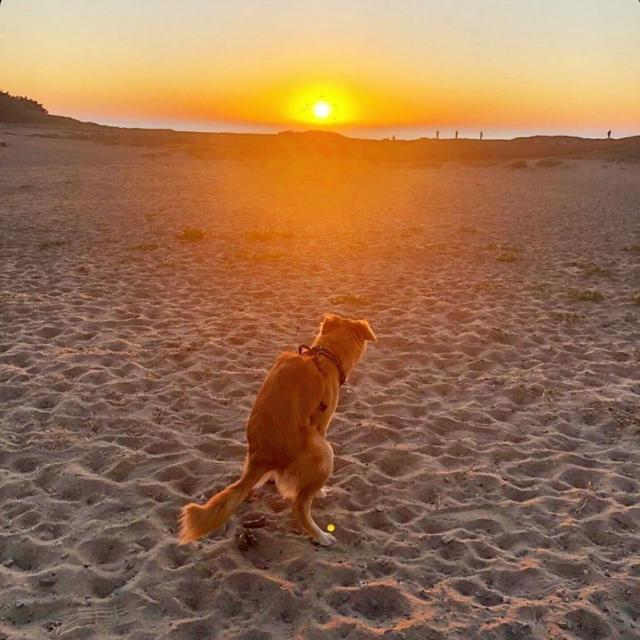squatting: (169, 313, 383, 563)
